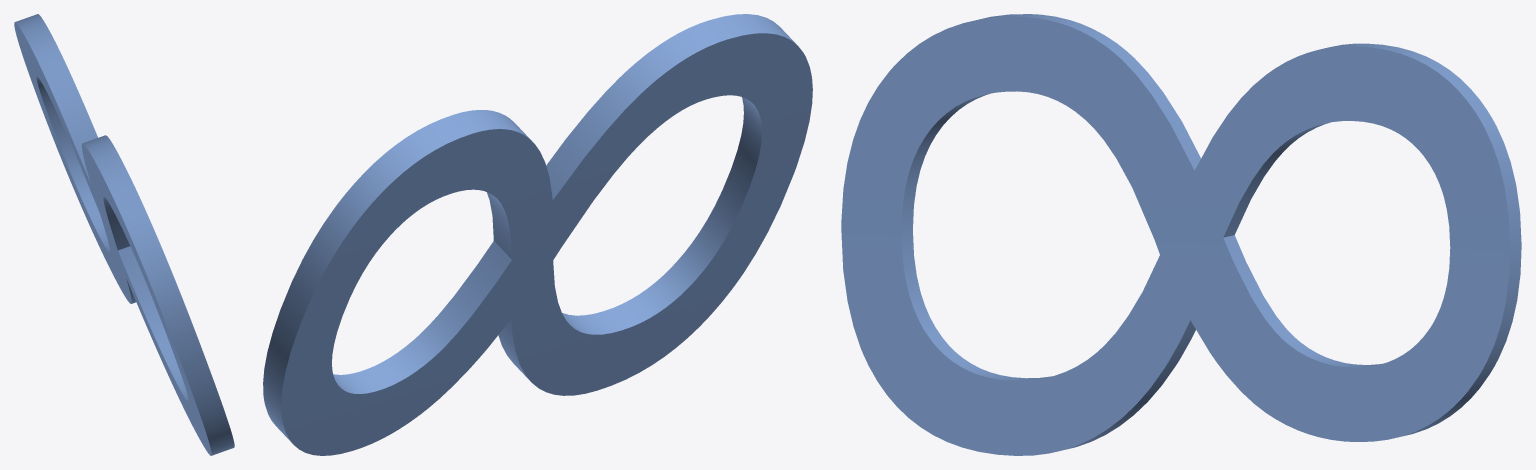
Rendered from New_Number_8.gltf.
The picture shows the model from 3 angles, left to right: view 1: azimuth 30°, elevation 25°; view 2: azimuth 150°, elevation 25°; view 3: azimuth 270°, elevation 25°; orthographic projection. The views are drawn at different scales.
Parts seen in each view (by area): view 1: Part 629; view 2: Part 629; view 3: Part 629.
Boxes of the visible parts, x1,y1,x2,y2 form: Part 629: (14, 14, 234, 455); Part 629: (263, 14, 812, 455); Part 629: (841, 14, 1521, 455).
Size of the model in its own units: 0.00234 by 0.0036 by 0.00557.
